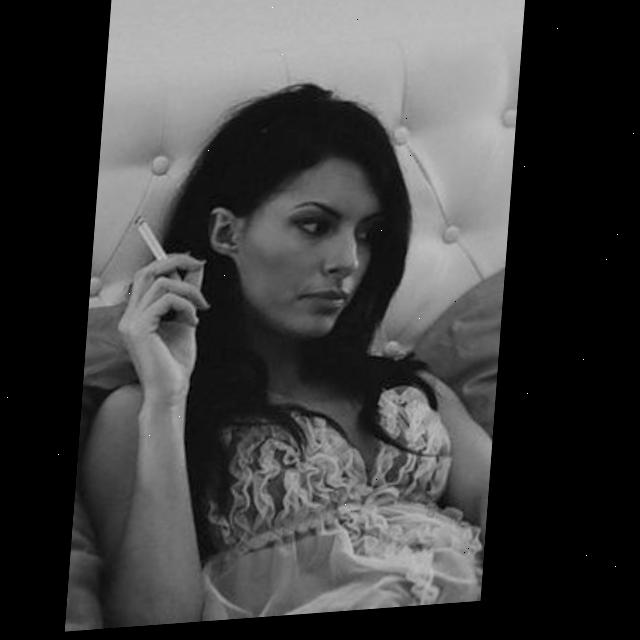cigarette: (135, 216, 187, 285)
